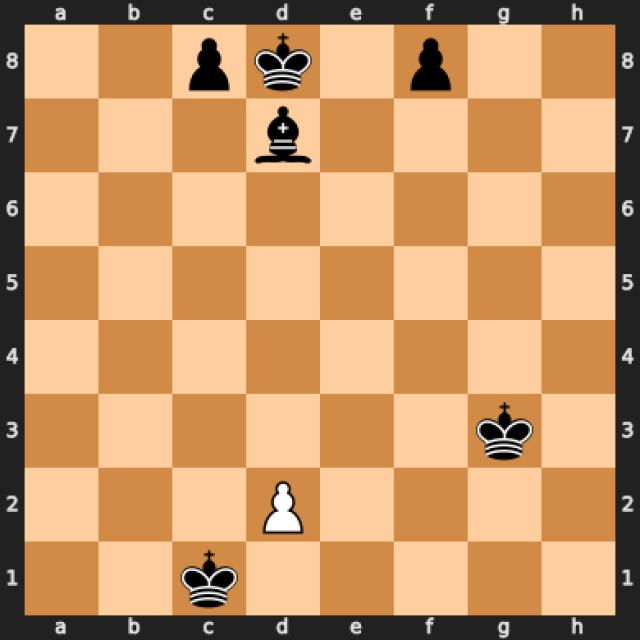Bishop_Black: (248, 104, 324, 180)
King_black: (174, 546, 243, 612), (472, 396, 536, 466), (250, 28, 315, 94)
Pawn_black: (174, 27, 238, 97), (398, 32, 461, 91)
Pawn_white: (254, 473, 312, 538)
